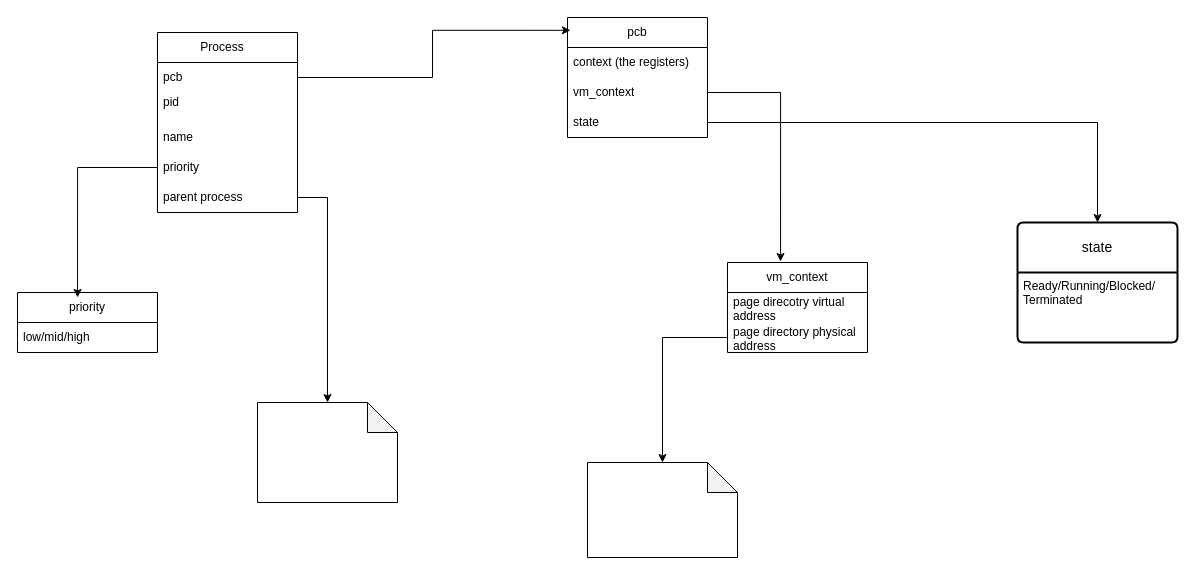
Some shapes in this 1196 by 575 pixel diagram are drawn without their labels. Each missing label, with the centre of its shape:
"pointer to the parent process witch we copy the mapping from" belongs at pixel 327 452.
"the physical address can not be saved and calculated on the run" belongs at pixel 662 510.
